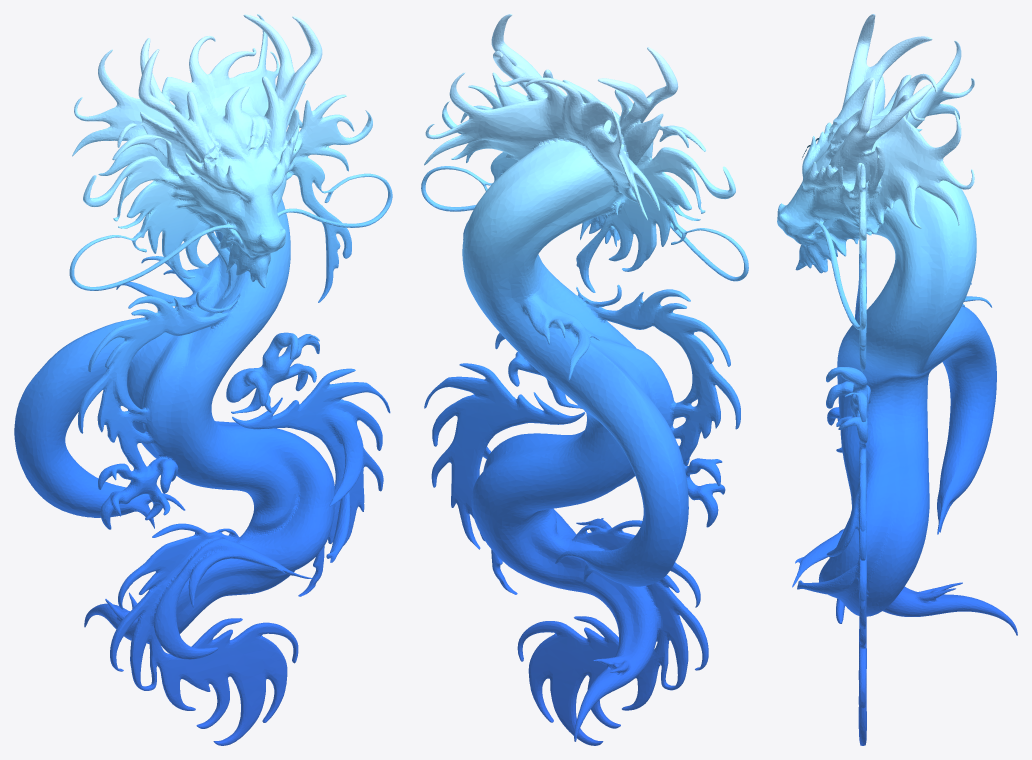
File: Aoki_Dragon_v12_Eye_Contour_Restored_From_v11.glb
The picture shows the model from 3 angles, left to right: view 1: azimuth 30°, elevation 25°; view 2: azimuth 150°, elevation 25°; view 3: azimuth 270°, elevation 25°; orthographic projection. The views are drawn at different scales.
Visible parts, largest first — view 1: world; view 2: world; view 3: world.
Part boxes in pixels (x1,y1,x2,y2): world: [14, 14, 392, 745]; world: [421, 14, 748, 745]; world: [777, 14, 1017, 745].
Bounding box in the file's own units: 0.9059 × 1.9 × 0.5952.
1 material, 1 textured.
